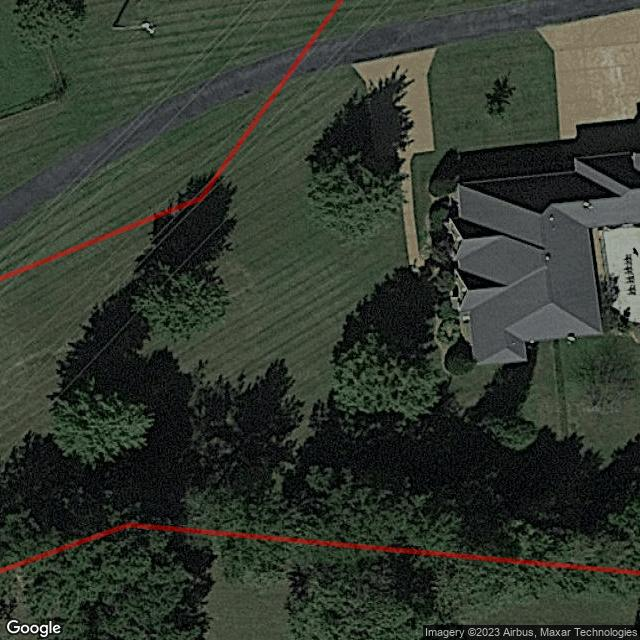Driveway: (352, 49, 436, 265), (539, 9, 640, 155)
House: (455, 154, 640, 364)
Other: (592, 227, 640, 323)
